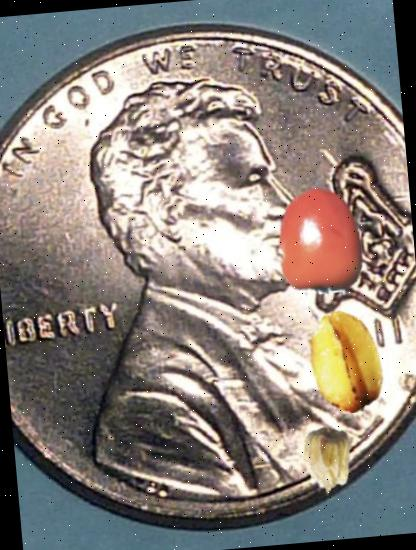Carambula: (290, 306, 402, 419)
Kaki: (261, 181, 379, 300)
Physalis: (290, 424, 366, 500)
